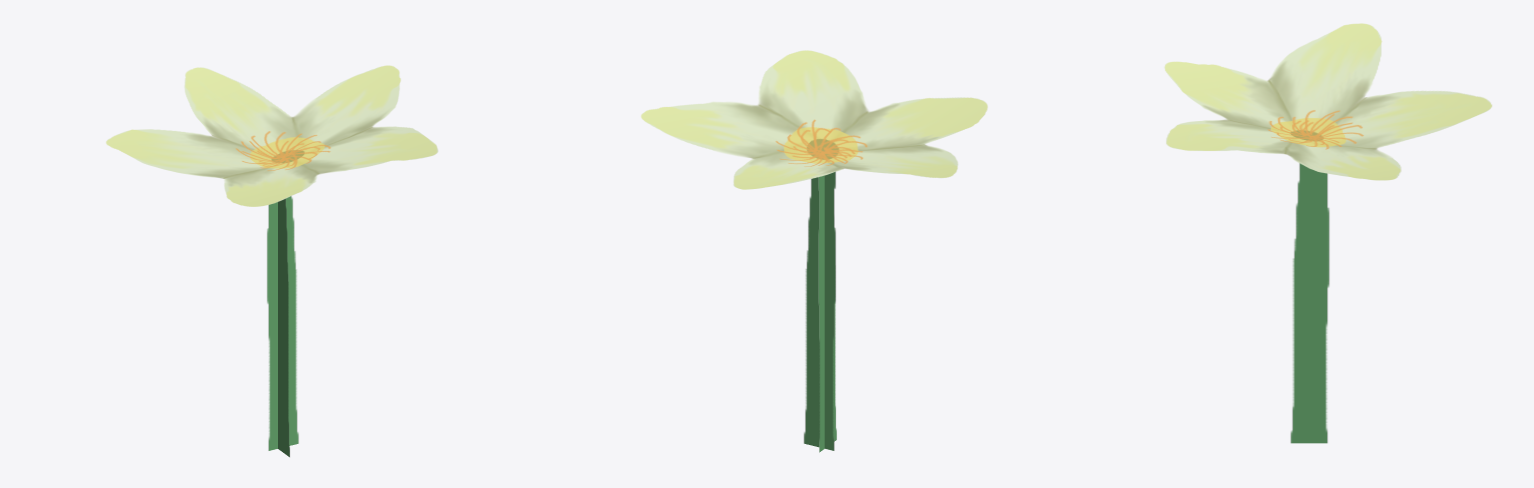
Rendered from flower.glb.
3 renders of one model, left to right at view 1: azimuth 30°, elevation 25°; view 2: azimuth 150°, elevation 25°; view 3: azimuth 270°, elevation 25°, orthographic. The views are drawn at different scales.
Parts seen in each view (by area): view 1: flower; view 2: flower; view 3: flower.
Boxes of the visible parts, x1,y1,x2,y2 form: flower: [105, 65, 438, 457]; flower: [640, 50, 987, 452]; flower: [1164, 23, 1492, 443].
Bounding box in the file's own units: 1.18 × 1.1 × 1.18.
Materials: 1 (1 with a texture image).
